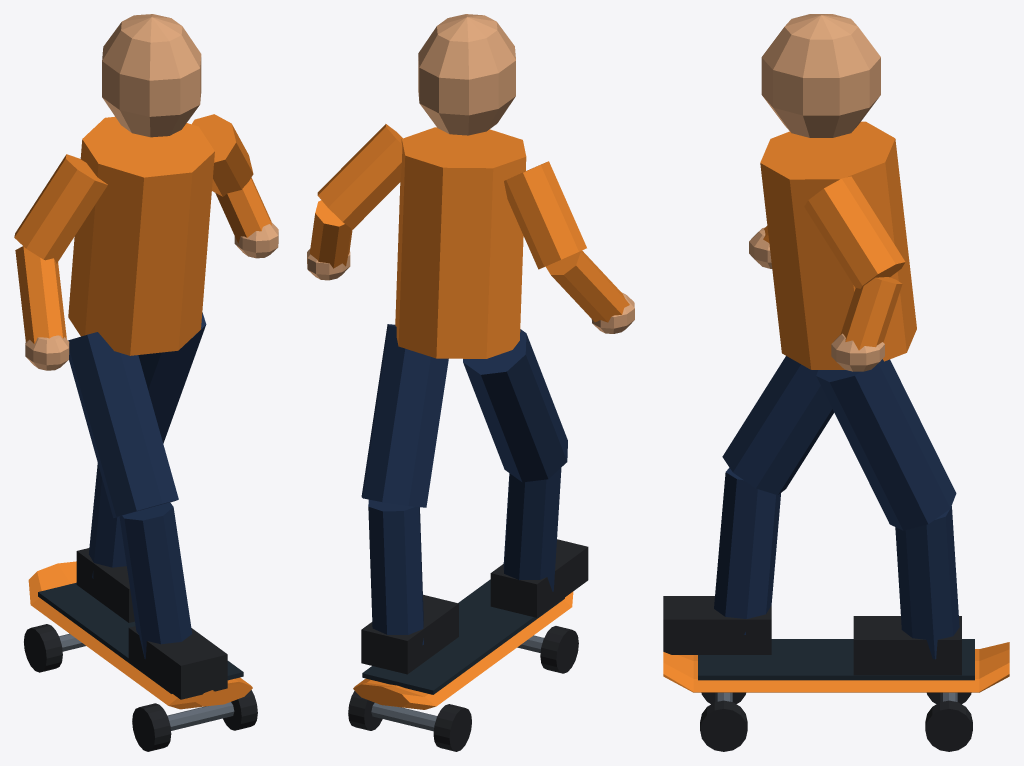
The model's file is skate.glb.
The picture shows the model from 3 angles, left to right: view 1: azimuth 30°, elevation 25°; view 2: azimuth 150°, elevation 25°; view 3: azimuth 270°, elevation 25°; orthographic projection. The views are drawn at different scales.
Visible parts, largest first — view 1: skate body; view 2: skate body; view 3: skate body.
Boxes of the visible parts, <box> form: skate body: <box>14,14,278,751</box>; skate body: <box>307,14,634,751</box>; skate body: <box>663,14,1009,751</box>.
Bounding box in the file's own units: 0.7895 × 1.81 × 0.8.
